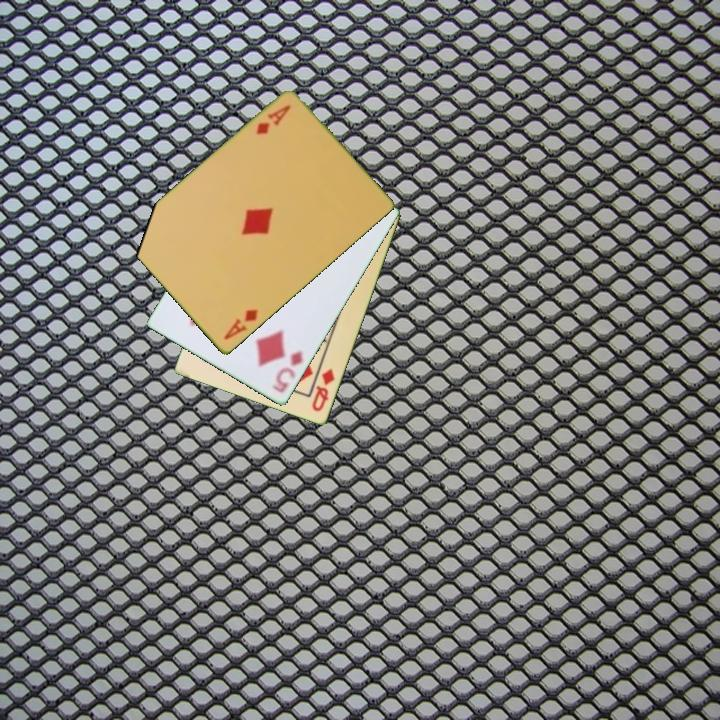5d: (268, 347, 306, 396)
Ad: (220, 306, 261, 343), (252, 102, 294, 138)
Qd: (308, 365, 338, 415)
